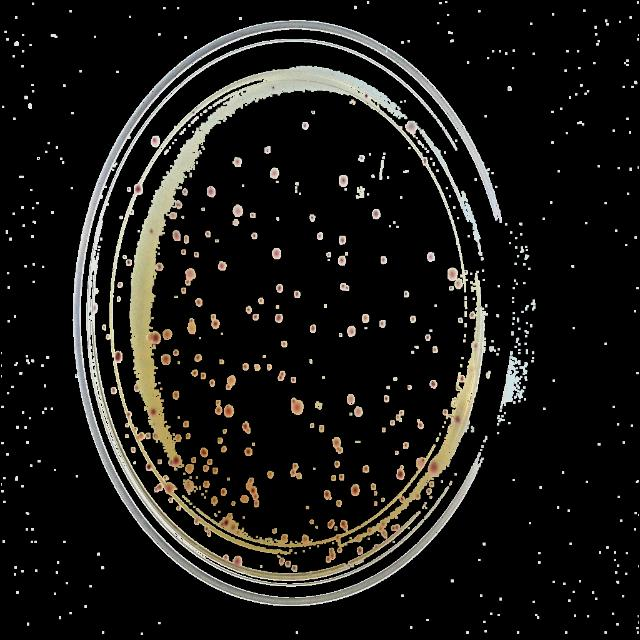colony: (403, 116, 421, 138), (144, 134, 164, 150), (184, 318, 198, 337), (130, 181, 146, 197), (146, 330, 162, 346), (168, 226, 182, 244), (162, 328, 176, 346), (416, 417, 428, 437), (270, 245, 284, 262), (229, 157, 245, 171), (336, 172, 350, 188), (344, 323, 358, 339), (426, 460, 440, 476), (238, 420, 254, 434), (291, 401, 305, 417), (158, 354, 174, 368), (404, 119, 418, 135), (353, 404, 365, 422), (394, 468, 406, 486), (182, 479, 195, 495), (112, 350, 125, 366), (368, 206, 382, 220), (184, 267, 200, 279), (424, 249, 436, 265), (446, 266, 458, 282), (345, 390, 357, 406), (224, 403, 236, 419), (266, 167, 280, 180), (230, 555, 243, 569), (230, 204, 244, 216), (430, 344, 444, 356), (426, 378, 438, 392), (264, 470, 278, 482), (164, 482, 176, 496), (144, 462, 158, 474), (225, 374, 239, 386), (192, 352, 204, 366), (206, 184, 217, 198), (146, 226, 158, 238), (154, 262, 166, 274), (229, 218, 241, 230), (216, 260, 228, 272), (255, 294, 267, 306), (274, 314, 286, 326), (262, 144, 274, 156), (307, 212, 319, 224), (377, 318, 389, 330), (406, 314, 418, 326), (238, 494, 250, 506), (242, 446, 254, 458), (419, 156, 431, 168), (195, 296, 205, 310), (274, 282, 284, 296), (316, 229, 326, 243), (338, 255, 348, 269), (415, 455, 425, 469), (350, 482, 360, 496), (337, 234, 348, 246), (181, 187, 191, 200), (172, 200, 184, 210), (250, 231, 262, 241), (301, 121, 311, 133), (360, 312, 370, 324), (403, 289, 413, 301), (454, 278, 464, 290), (325, 518, 335, 530), (323, 489, 333, 501), (299, 534, 311, 544), (280, 532, 290, 544), (210, 495, 220, 507), (185, 463, 195, 475), (148, 407, 158, 419), (136, 431, 146, 443), (216, 358, 228, 368), (172, 348, 182, 360), (329, 546, 337, 560), (357, 154, 368, 164), (378, 256, 389, 266), (199, 447, 209, 458), (173, 432, 183, 443), (362, 90, 371, 102), (168, 210, 178, 220), (211, 320, 221, 330), (243, 304, 253, 314), (293, 290, 303, 300), (249, 211, 259, 221), (382, 393, 392, 403), (355, 545, 365, 555), (368, 480, 378, 490), (270, 526, 280, 536), (290, 564, 300, 574), (202, 479, 212, 489), (172, 456, 182, 466), (154, 483, 164, 493), (128, 446, 138, 456), (224, 383, 234, 393), (330, 436, 340, 446), (308, 324, 318, 334), (132, 383, 142, 393), (200, 206, 210, 216), (199, 372, 209, 382), (182, 234, 190, 246), (457, 314, 465, 326), (364, 528, 376, 536), (248, 487, 260, 495), (243, 482, 255, 490), (214, 436, 226, 444), (172, 390, 180, 402), (318, 423, 326, 435), (190, 368, 198, 380), (423, 333, 432, 343), (408, 385, 417, 395), (174, 504, 183, 514), (252, 363, 262, 372), (452, 416, 463, 424), (469, 309, 476, 321), (92, 302, 98, 316), (128, 208, 136, 218), (125, 258, 133, 268), (116, 280, 124, 290), (184, 278, 194, 286), (180, 285, 188, 295), (252, 312, 260, 322), (337, 282, 345, 292), (472, 342, 480, 352), (414, 492, 422, 502), (388, 418, 396, 428), (394, 414, 402, 424), (398, 494, 406, 504), (380, 531, 390, 539), (336, 547, 344, 557), (362, 465, 370, 475), (378, 494, 386, 504), (338, 472, 346, 482), (334, 460, 342, 470), (284, 560, 292, 570), (295, 472, 303, 482), (289, 468, 297, 478), (222, 552, 230, 562), (206, 530, 214, 540), (227, 524, 237, 532), (220, 445, 228, 455), (132, 424, 140, 434), (184, 431, 192, 441), (215, 406, 223, 416), (242, 362, 250, 372), (110, 386, 118, 396), (208, 378, 216, 388), (125, 186, 134, 194), (114, 215, 126, 221), (210, 312, 218, 321), (457, 376, 469, 382), (428, 480, 437, 488), (403, 442, 411, 451), (339, 520, 348, 528), (278, 556, 284, 568), (221, 488, 229, 497), (166, 493, 174, 502), (144, 432, 152, 441), (182, 419, 190, 428), (462, 268, 471, 276), (253, 500, 260, 510), (105, 332, 112, 342), (115, 296, 123, 304), (178, 248, 186, 256), (192, 251, 200, 259), (204, 230, 212, 238), (443, 407, 451, 415), (425, 487, 433, 495), (398, 408, 406, 416), (348, 410, 356, 418), (392, 376, 400, 384), (324, 556, 332, 564), (372, 499, 380, 507), (330, 474, 338, 482), (292, 462, 300, 470), (192, 518, 200, 526), (249, 477, 257, 485), (222, 519, 230, 527), (206, 458, 214, 466), (202, 465, 210, 473), (190, 456, 198, 464), (162, 474, 170, 482), (125, 410, 133, 418), (266, 363, 274, 371), (278, 369, 286, 377), (308, 423, 316, 431), (280, 340, 288, 348), (100, 323, 108, 331), (334, 534, 342, 542), (344, 285, 350, 295), (449, 284, 455, 294), (396, 522, 402, 532), (337, 498, 343, 508), (379, 426, 386, 434), (408, 349, 416, 356), (214, 399, 222, 406), (269, 85, 277, 92), (344, 250, 351, 258), (310, 109, 316, 117), (326, 252, 334, 258), (336, 332, 344, 338), (383, 385, 391, 391), (398, 464, 406, 470), (390, 525, 396, 533), (381, 520, 387, 528), (376, 526, 384, 532), (308, 518, 314, 526), (252, 492, 260, 498), (232, 500, 238, 508), (228, 511, 234, 519), (234, 529, 240, 537), (212, 467, 218, 475), (250, 440, 256, 448), (124, 422, 130, 430), (278, 375, 284, 383), (290, 376, 298, 382), (180, 214, 188, 220), (354, 536, 362, 542), (122, 253, 128, 260), (394, 449, 400, 456), (190, 110, 197, 116), (414, 343, 420, 349), (372, 490, 378, 496), (222, 428, 228, 434), (290, 398, 296, 404), (338, 448, 344, 454), (158, 458, 162, 466), (369, 174, 376, 178), (124, 434, 130, 438), (336, 446, 340, 452), (338, 541, 342, 545)
